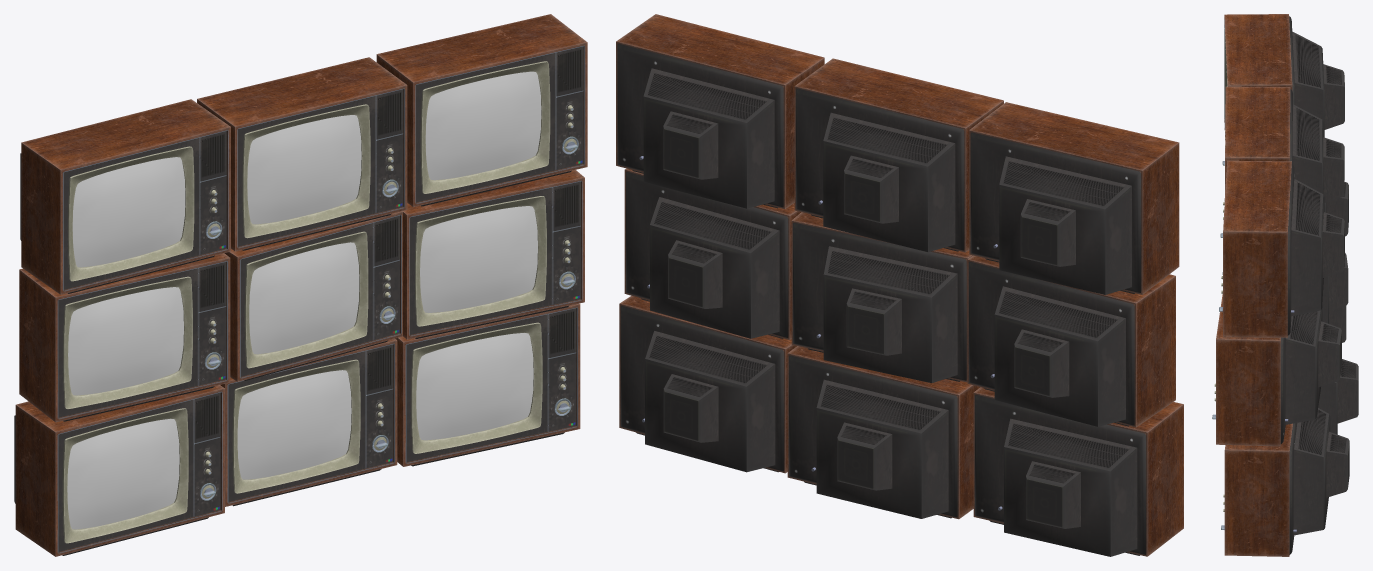
File: RetroTVvideoWall_UVsqrd_singleMesh.glb
3 views of the same model, side by side, from view 1: azimuth 30°, elevation 25°; view 2: azimuth 150°, elevation 25°; view 3: azimuth 270°, elevation 25° (orthographic). The views are drawn at different scales.
Parts seen in each view (by area): view 1: screen, Retro_TV.006, Retro_TV.008, Retro_TV.007, Retro_TV, Retro_TV.003, Retro_TV.005, Retro_TV.002, Retro_TV.004, Retro_TV.001; view 2: Retro_TV.006, Retro_TV.008, Retro_TV.007, Retro_TV.003, Retro_TV, Retro_TV.001, Retro_TV.004, Retro_TV.002, Retro_TV.005; view 3: Retro_TV.008, Retro_TV.002, Retro_TV.005, Retro_TV.007, Retro_TV.006, Retro_TV.001, Retro_TV.004, Retro_TV.003, Retro_TV.
Part boxes in pixels (<box>): screen: <box>67,71,541,529</box>; Retro_TV.006: <box>20,99,230,294</box>; Retro_TV.008: <box>376,14,587,207</box>; Retro_TV.007: <box>197,57,407,251</box>; Retro_TV: <box>14,385,224,556</box>; Retro_TV.003: <box>19,253,230,422</box>; Retro_TV.005: <box>403,170,584,339</box>; Retro_TV.002: <box>395,303,580,466</box>; Retro_TV.004: <box>224,211,403,381</box>; Retro_TV.001: <box>220,338,397,506</box>; Retro_TV.006: <box>969,102,1179,294</box>; Retro_TV.008: <box>616,14,824,209</box>; Retro_TV.007: <box>794,58,1003,252</box>; Retro_TV.003: <box>967,255,1175,427</box>; Retro_TV: <box>973,387,1183,556</box>; Retro_TV.001: <box>787,346,980,519</box>; Retro_TV.004: <box>791,212,972,383</box>; Retro_TV.002: <box>619,296,796,473</box>; Retro_TV.005: <box>624,168,801,339</box>; Retro_TV.008: <box>1219,160,1344,337</box>; Retro_TV.002: <box>1221,408,1349,556</box>; Retro_TV.005: <box>1212,294,1341,446</box>; Retro_TV.007: <box>1220,86,1344,237</box>; Retro_TV.006: <box>1222,14,1344,165</box>; Retro_TV.001: <box>1318,359,1358,434</box>; Retro_TV.004: <box>1224,198,1348,323</box>; Retro_TV.003: <box>1222,181,1348,274</box>; Retro_TV: <box>1329,305,1346,342</box>.
Bounding box in the file's own units: 1.61 × 1.13 × 0.4534.
2 materials, 1 textured.
